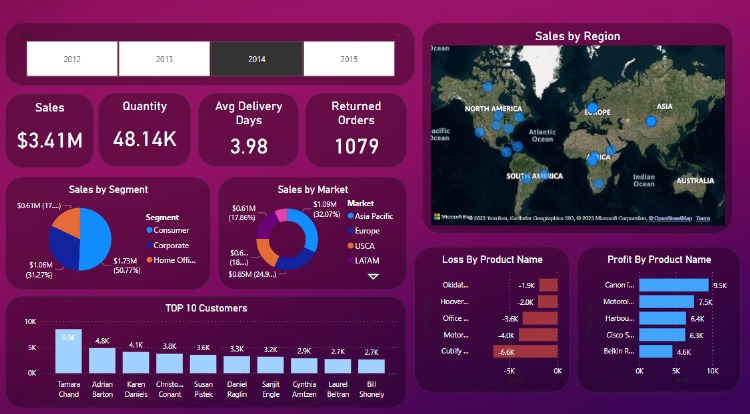

This screenshot's page, from the dashboard's own definition file:
{"tool":"powerbi","page":{"name":"Page 1","canvas":[1280,720],"ordinal":0},"visuals":[{"type":"card","title":"Sales","fields":{"Values":["Orders.Sales"]},"box":[13.6,166.1,149.2,123.7],"z":0},{"type":"card","title":"Quantity","fields":{"Values":["Orders.Quantity"]},"box":[171.2,164.4,155.9,123.7],"z":1000},{"type":"card","title":"Avg Delivery Days","fields":{"Values":["Orders.Delivery Days "]},"box":[340.7,164.4,169.5,123.7],"z":2000},{"type":"slicer","fields":{"Values":["Orders.Year"]},"box":[13.6,45.8,693.2,105.1],"z":3000},{"type":"card","title":"Returned Orders","fields":{"Values":["Returns.Return Orders"]},"box":[522,164.4,171.2,125.4],"z":4000},{"type":"map","title":"Sales by Region","fields":{"Category":["Returns.Region"],"Size":["Orders.Sales"]},"box":[720.3,45.8,525.4,355.9],"z":5000},{"type":"clusteredBarChart","title":"Profit By Product Name","fields":{"Category":["Orders.Product Name"],"Y":["Orders.Profit"]},"box":[983.1,425.4,276.3,245.8],"z":6000},{"type":"clusteredBarChart","title":"Loss By Product Name","fields":{"Category":["Orders.Product Name"],"Y":["Orders.Profit"]},"box":[706.8,425.4,262.7,245.8],"z":7000},{"type":"pieChart","title":"Sales by Segment","fields":{"Category":["Orders.Segment"],"Y":["Orders.Sales"]},"box":[13.6,306.8,347.5,189.8],"z":8000},{"type":"donutChart","title":"Sales by Market","fields":{"Y":["Orders.Sales"],"Category":["Orders.Market"]},"box":[374.6,306.8,318.6,189.8],"z":9000},{"type":"columnChart","title":"TOP 10 Customers","fields":{"Y":["Orders.Profit"],"Category":["Orders.Customer Name"]},"box":[13.6,508.5,679.7,189.8],"z":9001}]}

Visuals, with their boxes in screenshot pixels (x1, y1, x2, y2), scaled from the page's 1280x720 canvas onto the 750x414 screenshot:
"Sales" card: <bbox>8, 96, 95, 167</bbox>
"Quantity" card: <bbox>100, 95, 192, 166</bbox>
"Avg Delivery Days" card: <bbox>200, 95, 299, 166</bbox>
slicer - Orders.Year: <bbox>8, 26, 414, 87</bbox>
"Returned Orders" card: <bbox>306, 95, 406, 167</bbox>
"Sales by Region" map: <bbox>422, 26, 730, 231</bbox>
"Profit By Product Name" clusteredBarChart: <bbox>576, 245, 738, 386</bbox>
"Loss By Product Name" clusteredBarChart: <bbox>414, 245, 568, 386</bbox>
"Sales by Segment" pieChart: <bbox>8, 176, 212, 286</bbox>
"Sales by Market" donutChart: <bbox>219, 176, 406, 286</bbox>
"TOP 10 Customers" columnChart: <bbox>8, 292, 406, 402</bbox>
